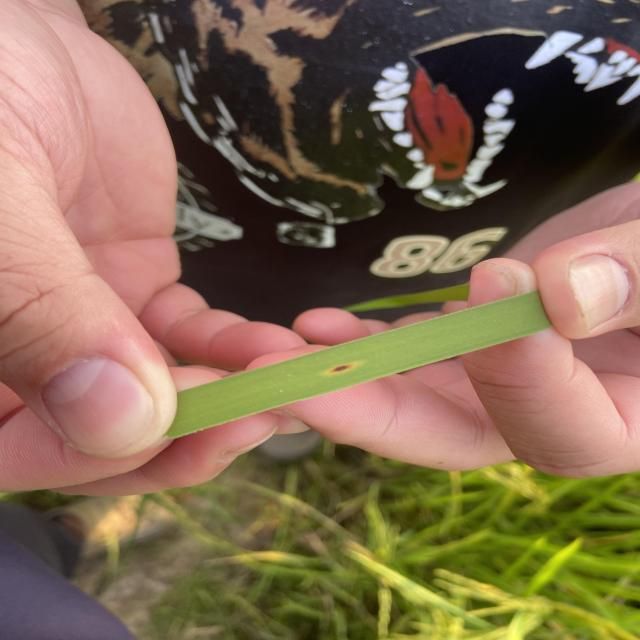Dom nau: (334, 365, 348, 372)
